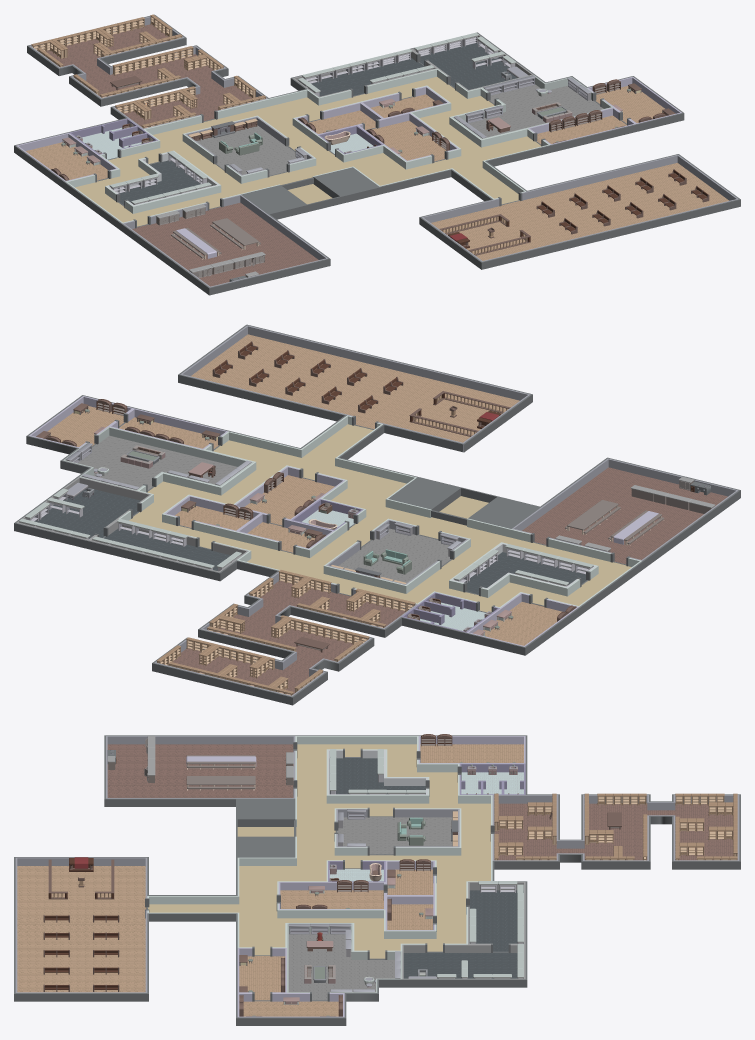
Rendered from Room_v01.fbx.
3 views of the same model, one above another, from view 1: azimuth 30°, elevation 25°; view 2: azimuth 150°, elevation 25°; view 3: azimuth 270°, elevation 25° (orthographic). The views are drawn at different scales.
Visible parts, largest first — view 1: Room_01, Wall_CoMdine_v01, Object_Combine_v01, Room_02; view 2: Room_01, Wall_CoMdine_v01, Object_Combine_v01, Room_02; view 3: Room_01, Wall_CoMdine_v01, Object_Combine_v01, Room_02.
Part boxes in pixels (box(x1,y1,x2,y2)): Room_01: box(26, 24, 728, 286); Wall_CoMdine_v01: box(14, 14, 740, 295); Object_Combine_v01: box(31, 14, 709, 281); Room_02: box(75, 77, 541, 226); Room_01: box(34, 334, 727, 694); Wall_CoMdine_v01: box(14, 324, 740, 705); Object_Combine_v01: box(19, 341, 715, 695); Room_02: box(129, 424, 631, 612); Room_01: box(17, 744, 733, 1016); Wall_CoMdine_v01: box(14, 735, 740, 1025); Object_Combine_v01: box(43, 734, 737, 1016); Room_02: box(148, 744, 490, 958).
Size of the model in its own units: 8140 by 143 by 8840.
